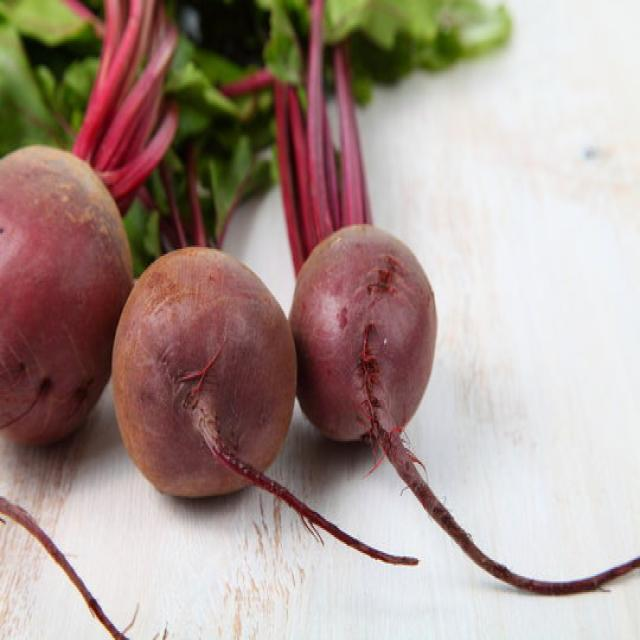Beetroot: (110, 242, 290, 510), (0, 145, 135, 437), (293, 223, 427, 433)
